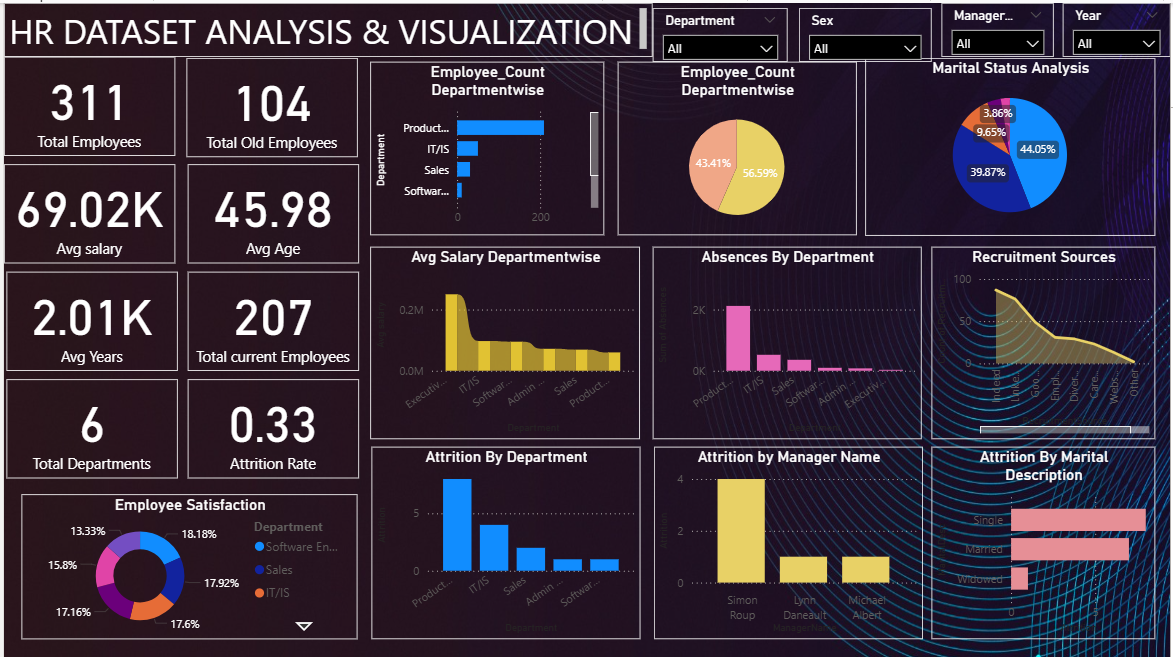

The dashboard page shown, as its layout file describes it:
{"tool":"powerbi","page":{"name":"Page 1","canvas":[1280,720],"ordinal":0},"visuals":[{"type":"textbox","box":[0,0,712.2,59],"z":0},{"type":"card","fields":{"Values":["AllEmployees.Total Employees"]},"box":[0,59,188,108.4],"z":1000},{"type":"card","fields":{"Values":["AllEmployees.Total Old Employees"]},"box":[200.3,60.4,188,108.4],"z":2000},{"type":"card","fields":{"Values":["AllEmployees.Avg Age"]},"box":[201.7,177,188,108.4],"z":3000},{"type":"card","fields":{"Values":["AllEmployees.Avg salary"]},"box":[0,177,188,108.4],"z":4000},{"type":"card","fields":{"Values":["AllEmployees.Attrition Rate"]},"box":[201.7,413,188,108.4],"z":5000},{"type":"card","fields":{"Values":["AllEmployees.Total Departments"]},"box":[2.7,413,188,108.4],"z":6000},{"type":"card","fields":{"Values":["AllEmployees.Total current Employees"]},"box":[201.7,295,188,108.4],"z":7000},{"type":"card","fields":{"Values":["AllEmployees.Avg Years"]},"box":[2.7,295,188,108.4],"z":8000},{"type":"clusteredBarChart","title":" Employee_Count Departmentwise","fields":{"Category":["AllEmployees.Department"],"Y":["AllEmployees.Employee_Name"]},"box":[402.1,64.5,256.6,190.7],"z":9000},{"type":"pieChart","title":" Employee_Count Departmentwise","fields":{"Category":["AllEmployees.Sex"],"Y":["AllEmployees.Sex"]},"box":[673.8,64.5,262.1,190.7],"z":10000},{"type":"pieChart","title":" Marital Status Analysis","fields":{"Category":["AllEmployees.MaritalDesc"],"Y":["AllEmployees.MaritalDesc"]},"box":[945.5,60.4,296.4,194.9],"z":10001},{"type":"ribbonChart","title":" Avg Salary Departmentwise","fields":{"Category":["AllEmployees.Department"],"Y":["AllEmployees.Avg salary"]},"box":[402.1,267.6,296.4,211.3],"z":10002},{"type":"clusteredColumnChart","title":"Absences By Department","fields":{"Category":["AllEmployees.Department"],"Y":["AllEmployees.Absences"]},"box":[712.2,267.6,295,211.3],"z":10003},{"type":"areaChart","title":"Recruitment Sources","fields":{"Category":["AllEmployees.RecruitmentSource"],"Y":["AllEmployees.RecruitmentSource"]},"box":[1018.2,267.6,245.6,211.3],"z":10004},{"type":"donutChart","title":"Employee Satisfaction","fields":{"Category":["AllEmployees.Department"],"Y":["AllEmployees.EmpSatisfaction"]},"box":[19.2,539.3,369.1,159.2],"z":10005},{"type":"columnChart","title":"Attrition By Department","fields":{"Category":["AllEmployees.Department"],"Y":["AllEmployees.Attrition"]},"box":[403.4,487.1,295,211.3],"z":10006},{"type":"columnChart","title":"Attrition by Manager Name","fields":{"Category":["AllEmployees.ManagerName"],"Y":["AllEmployees.Attrition"]},"box":[713.6,487.1,295,211.3],"z":10007},{"type":"barChart","title":"Attrition By Marital Description","fields":{"Y":["AllEmployees.Attrition"],"Category":["AllEmployees.MaritalDesc"]},"box":[1018.2,487.1,245.6,211.3],"z":10008},{"type":"slicer","title":"Attrition By Marital Description","fields":{"Values":["AllEmployees.Department"]},"box":[712.2,5.5,148.2,59],"z":10009},{"type":"slicer","title":"Attrition By Marital Description","fields":{"Values":["AllEmployees.Sex"]},"box":[872.7,5.5,145.5,59],"z":10010},{"type":"slicer","title":"Attrition By Marital Description","fields":{"Values":["AllEmployees.ManagerName"]},"box":[1029.2,0,123.5,59],"z":10011},{"type":"slicer","title":"Attrition By Marital Description","fields":{"Values":["AllEmployees.Year"]},"box":[1162.3,0,118,59],"z":10012}]}

Visuals, with their boxes in screenshot pixels (x1, y1, x2, y2), scaled from the page's 1280x720 canvas onto the 1173x657 screenshot:
textbox: pyautogui.locateOnScreen(0, 0, 653, 54)
card - AllEmployees.Total Employees: pyautogui.locateOnScreen(0, 54, 172, 153)
card - AllEmployees.Total Old Employees: pyautogui.locateOnScreen(184, 55, 356, 154)
card - AllEmployees.Avg Age: pyautogui.locateOnScreen(185, 162, 357, 260)
card - AllEmployees.Avg salary: pyautogui.locateOnScreen(0, 162, 172, 260)
card - AllEmployees.Attrition Rate: pyautogui.locateOnScreen(185, 377, 357, 476)
card - AllEmployees.Total Departments: pyautogui.locateOnScreen(2, 377, 175, 476)
card - AllEmployees.Total current Employees: pyautogui.locateOnScreen(185, 269, 357, 368)
card - AllEmployees.Avg Years: pyautogui.locateOnScreen(2, 269, 175, 368)
" Employee_Count Departmentwise" clusteredBarChart: pyautogui.locateOnScreen(368, 59, 604, 233)
" Employee_Count Departmentwise" pieChart: pyautogui.locateOnScreen(617, 59, 858, 233)
" Marital Status Analysis" pieChart: pyautogui.locateOnScreen(866, 55, 1138, 233)
" Avg Salary Departmentwise" ribbonChart: pyautogui.locateOnScreen(368, 244, 640, 437)
"Absences By Department" clusteredColumnChart: pyautogui.locateOnScreen(653, 244, 923, 437)
"Recruitment Sources" areaChart: pyautogui.locateOnScreen(933, 244, 1158, 437)
"Employee Satisfaction" donutChart: pyautogui.locateOnScreen(18, 492, 356, 637)
"Attrition By Department" columnChart: pyautogui.locateOnScreen(370, 444, 640, 637)
"Attrition by Manager Name" columnChart: pyautogui.locateOnScreen(654, 444, 924, 637)
"Attrition By Marital Description" barChart: pyautogui.locateOnScreen(933, 444, 1158, 637)
"Attrition By Marital Description" slicer: pyautogui.locateOnScreen(653, 5, 788, 59)
"Attrition By Marital Description" slicer: pyautogui.locateOnScreen(800, 5, 933, 59)
"Attrition By Marital Description" slicer: pyautogui.locateOnScreen(943, 0, 1056, 54)
"Attrition By Marital Description" slicer: pyautogui.locateOnScreen(1065, 0, 1172, 54)
